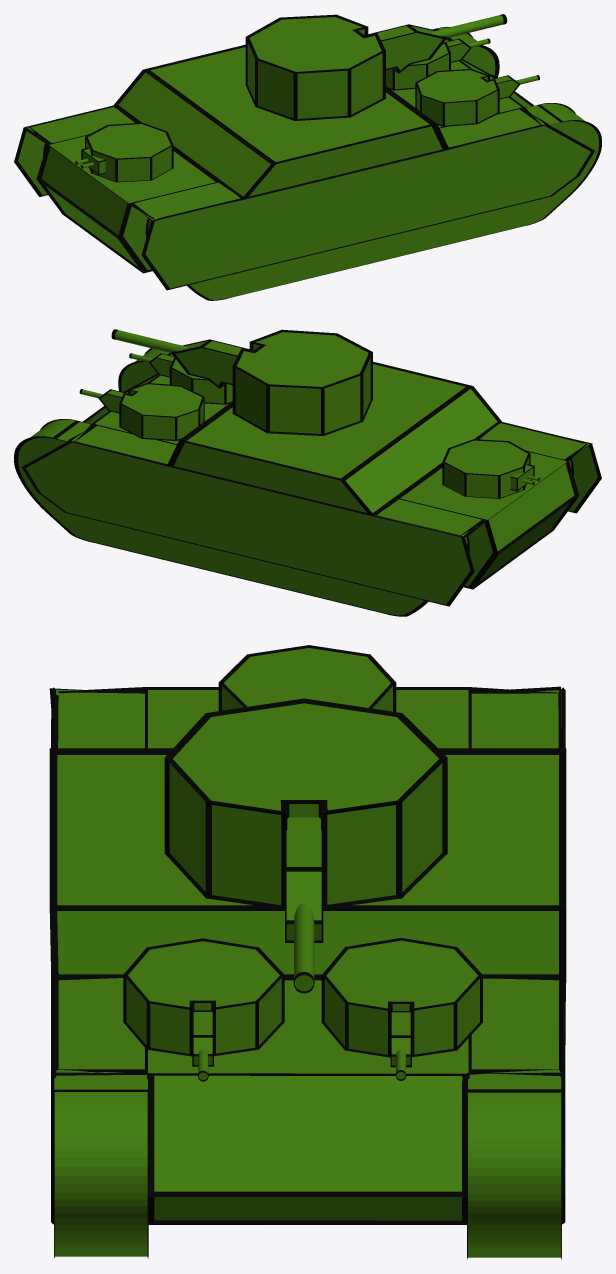
3 views of the same model, one above another, from view 1: azimuth 30°, elevation 25°; view 2: azimuth 150°, elevation 25°; view 3: azimuth 270°, elevation 25° (orthographic). The views are drawn at different scales.
Parts seen in each view (by area): view 1: Cubo, Cubo.011, Cubo.001, Cubo.012, Cubo.005, Cubo.004, Cubo.002, Cubo.010, Cubo.003, Cubo.013, Cubo.009, Cilindro (+2 smaller); view 2: Cubo, Cubo.010, Cubo.001, Cubo.009, Cubo.005, Cubo.003, Cubo.002, Cubo.011, Cubo.014, Cubo.004, Cubo.012, Cilindro (+2 smaller); view 3: Cubo, Cubo.001, Cubo.009, Cubo.012, Cubo.003, Cubo.004, Cubo.005, Cubo.002, Cilindro, Cubo.010, Cubo.011, Cubo.007 (+2 smaller).
Part boxes in pixels (x1,y1,x2,y2): Cubo: (23,44,548,273); Cubo.011: (141,124,594,290); Cubo.001: (245,14,385,120); Cubo.012: (148,103,598,299); Cubo.005: (85,122,173,182); Cubo.004: (415,69,499,126); Cubo.002: (365,24,447,73); Cubo.010: (14,105,115,196); Cubo.003: (386,42,450,90); Cubo.013: (145,103,601,300); Cubo.009: (438,27,495,75); Cilindro: (430,15,503,37); Cubo: (67,361,592,589); Cubo.010: (21,440,474,606); Cubo.001: (232,329,372,435); Cubo.009: (18,419,467,615); Cubo.005: (442,439,530,498); Cubo.003: (119,383,204,440); Cubo.002: (171,339,253,388); Cubo.011: (501,421,601,513); Cubo.014: (14,419,469,616); Cubo.004: (169,357,232,404); Cubo.012: (121,349,571,468); Cilindro: (115,330,187,352); Cubo: (49,686,566,1224); Cubo.001: (164,698,447,908); Cubo.009: (467,1073,561,1257); Cubo.012: (54,1074,147,1256); Cubo.003: (321,937,482,1057); Cubo.004: (123,938,284,1056); Cubo.005: (218,645,396,711); Cubo.002: (285,817,323,942); Cilindro: (294,903,314,991); Cubo.010: (560,687,565,1224); Cubo.011: (51,687,56,1224); Cubo.007: (192,1010,213,1066).
Bounding box in the file's own units: 31.82 × 11.34 × 15.42.
